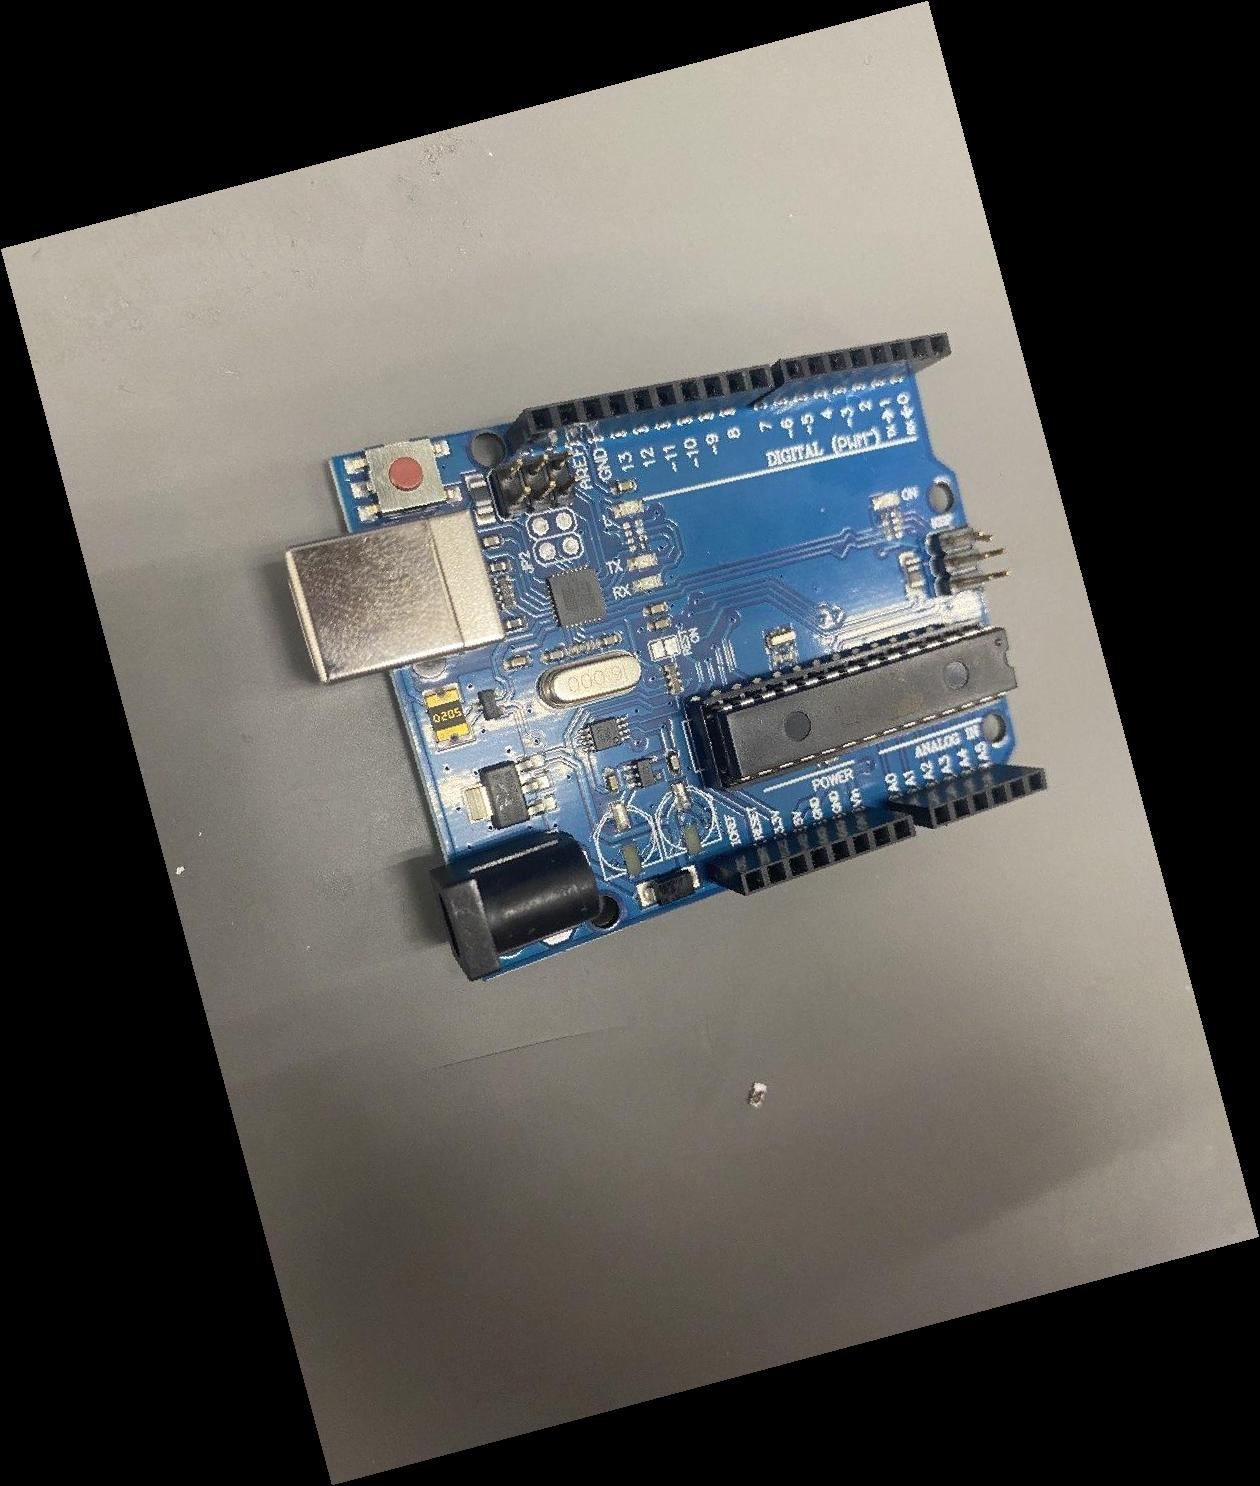ATmega328 chip: (685, 619, 1017, 792)
Arduino board: (285, 332, 1047, 982)
USB: (285, 510, 506, 687)
pins: (505, 362, 775, 454), (709, 806, 916, 897), (752, 331, 951, 407), (891, 764, 1049, 830)
resistor: (492, 454, 520, 731), (662, 541, 685, 816)
